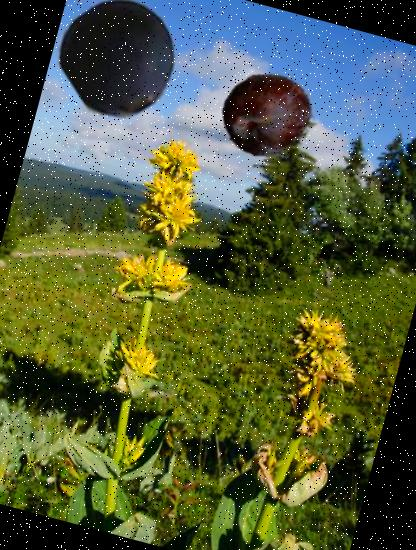Grape: (47, 0, 193, 130)
Plum: (212, 58, 323, 169)
